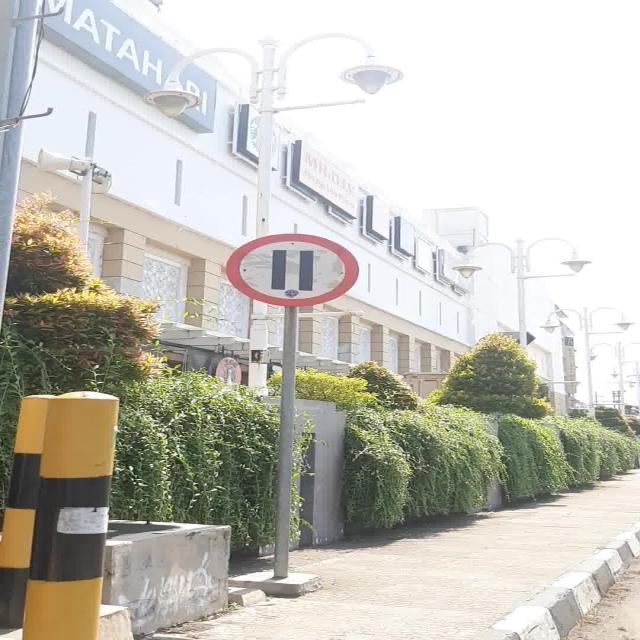Larangan Muatan - 10 ton: (226, 233, 360, 307)
